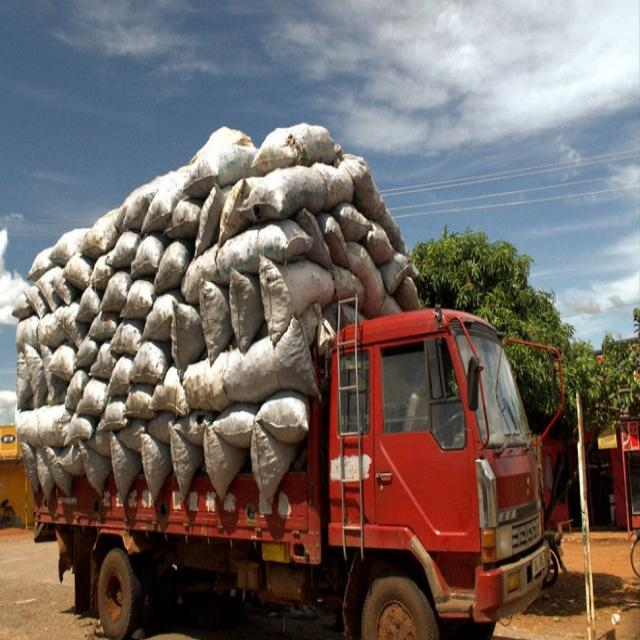Truck: (35, 211, 553, 640)
